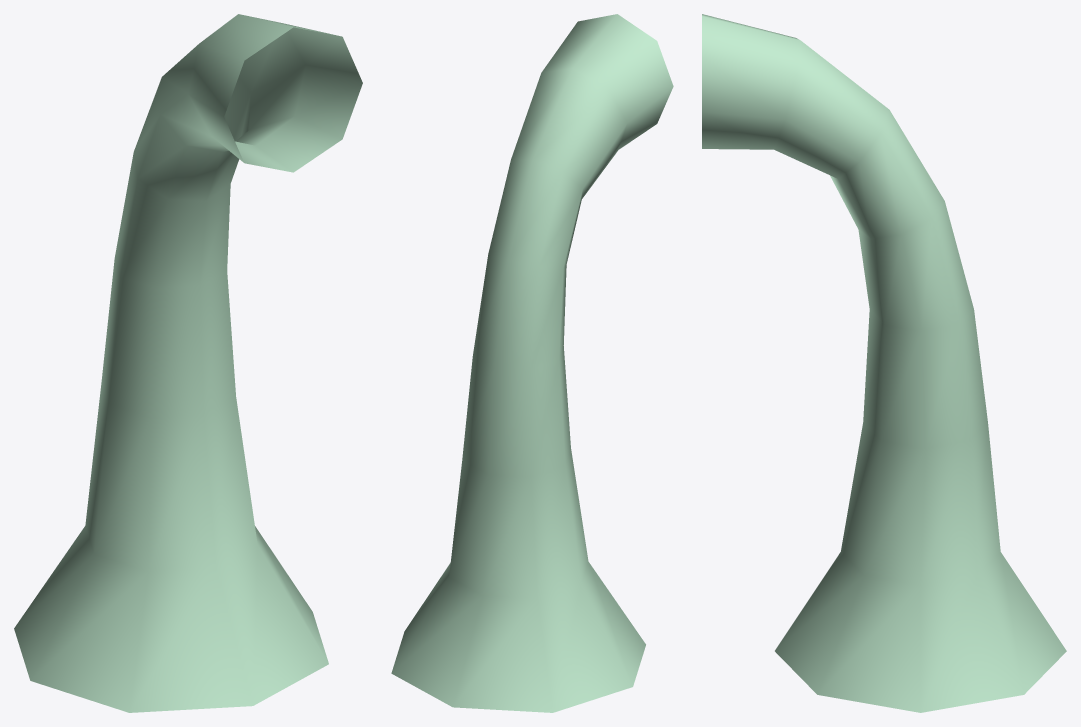
The picture shows the model from 3 angles, left to right: view 1: azimuth 30°, elevation 25°; view 2: azimuth 150°, elevation 25°; view 3: azimuth 270°, elevation 25°; orthographic projection. The views are drawn at different scales.
Parts seen in each view (by area): view 1: Object73; view 2: Object73; view 3: Object73.
Part boxes in pixels (x1,y1,x2,y2): Object73: (14,14,362,712); Object73: (391,14,673,712); Object73: (702,14,1066,712).
Bounding box in the file's own units: 118 × 284 × 148.
